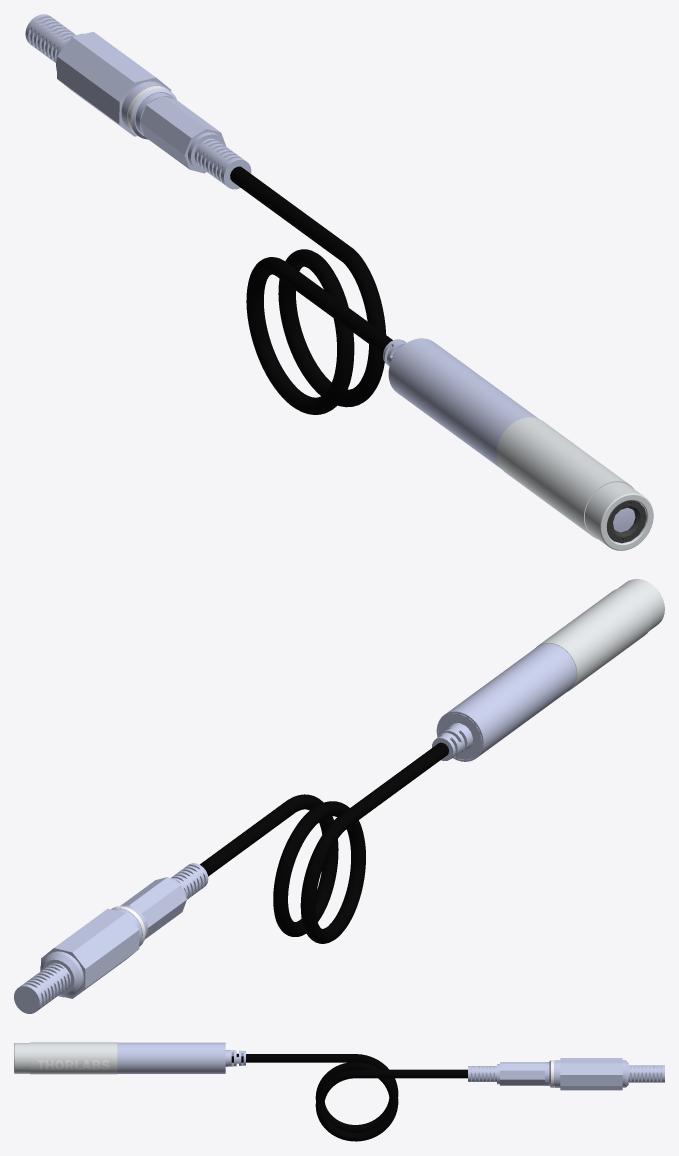
The model's file is CPS532-C2-Solidworks.obj.
3 views of the same model, one above another, from view 1: azimuth 30°, elevation 25°; view 2: azimuth 150°, elevation 25°; view 3: azimuth 270°, elevation 25° (orthographic). The views are drawn at different scales.
Visible parts, largest first — view 1: Volumenkörper9, Volumenkörper7, Volumenkörper1, Volumenkörper4, Volumenkörper2; view 2: Volumenkörper9, Volumenkörper7, Volumenkörper4, Volumenkörper1, Volumenkörper6, Volumenkörper5; view 3: Volumenkörper9, Volumenkörper7, Volumenkörper4, Volumenkörper1, Volumenkörper6.
Boxes of the visible parts, x1,y1,x2,y2 form: Volumenkörper9: [230, 166, 392, 414]; Volumenkörper7: [25, 14, 251, 189]; Volumenkörper1: [496, 417, 653, 550]; Volumenkörper4: [388, 338, 538, 468]; Volumenkörper2: [606, 500, 646, 543]; Volumenkörper9: [200, 742, 448, 943]; Volumenkörper7: [14, 863, 208, 1013]; Volumenkörper4: [436, 643, 576, 761]; Volumenkörper1: [536, 579, 664, 691]; Volumenkörper6: [432, 723, 472, 760]; Volumenkörper5: [438, 713, 481, 759]; Volumenkörper9: [231, 1054, 467, 1141]; Volumenkörper7: [468, 1058, 664, 1090]; Volumenkörper4: [117, 1042, 225, 1073]; Volumenkörper1: [14, 1042, 117, 1074]; Volumenkörper6: [225, 1050, 245, 1066].
Size of the model in its own units: 23.32 by 32.36 by 224.
